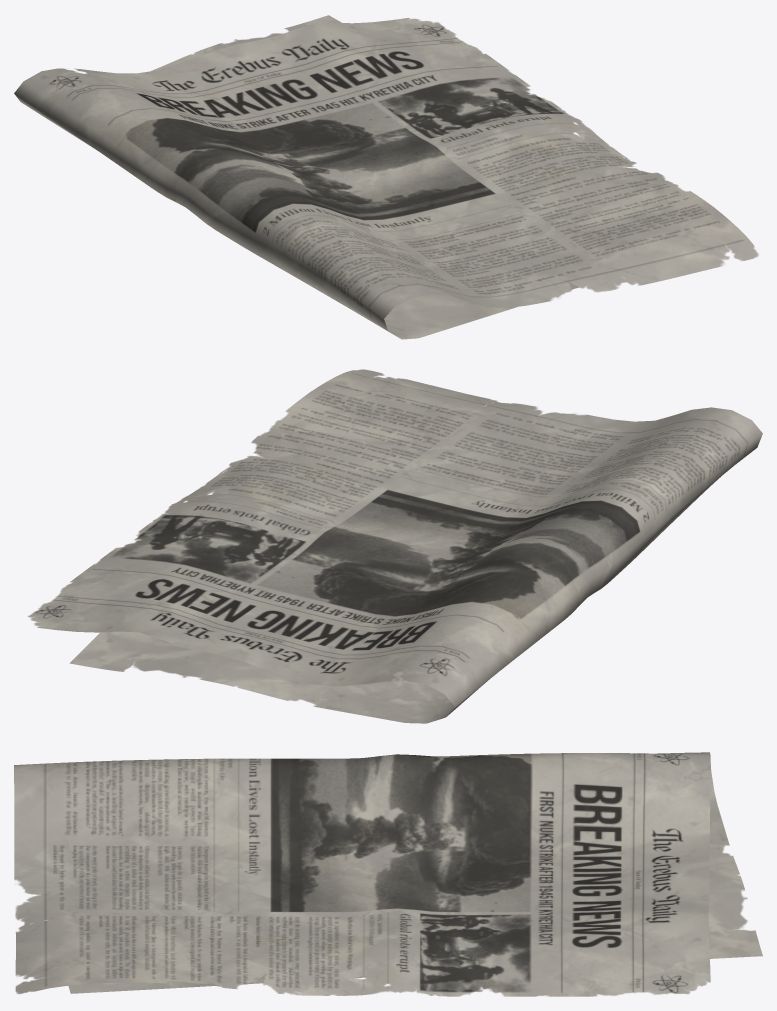
The model's file is old_newspaper.glb.
3 renders of one model, top to bottom at view 1: azimuth 30°, elevation 25°; view 2: azimuth 150°, elevation 25°; view 3: azimuth 270°, elevation 25°, orthographic. The views are drawn at different scales.
Visible parts, largest first — view 1: polySurface4_0; view 2: polySurface4_0; view 3: polySurface4_0.
Part boxes in pixels (<box>): polySurface4_0: <box>14,15,758,339</box>; polySurface4_0: <box>27,369,762,723</box>; polySurface4_0: <box>14,752,762,996</box>.
Size of the model in its own units: 13.07 by 1.52 by 19.27.
Materials: 1 (1 with a texture image).
